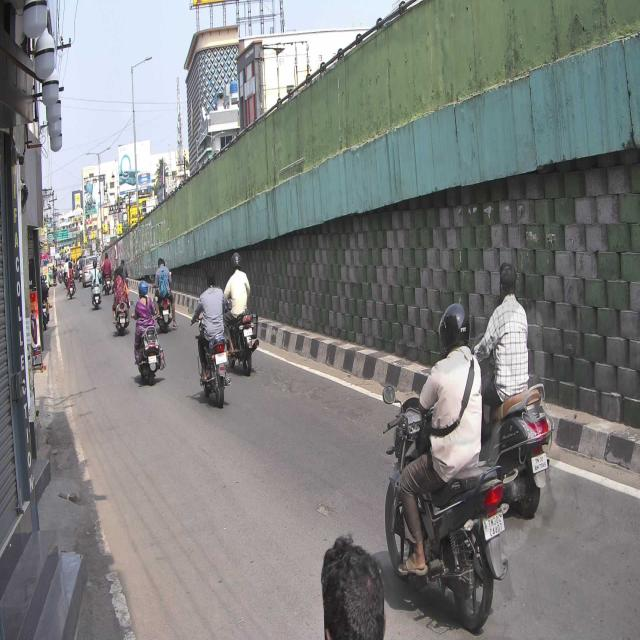single_rider: (381, 300, 506, 631)
